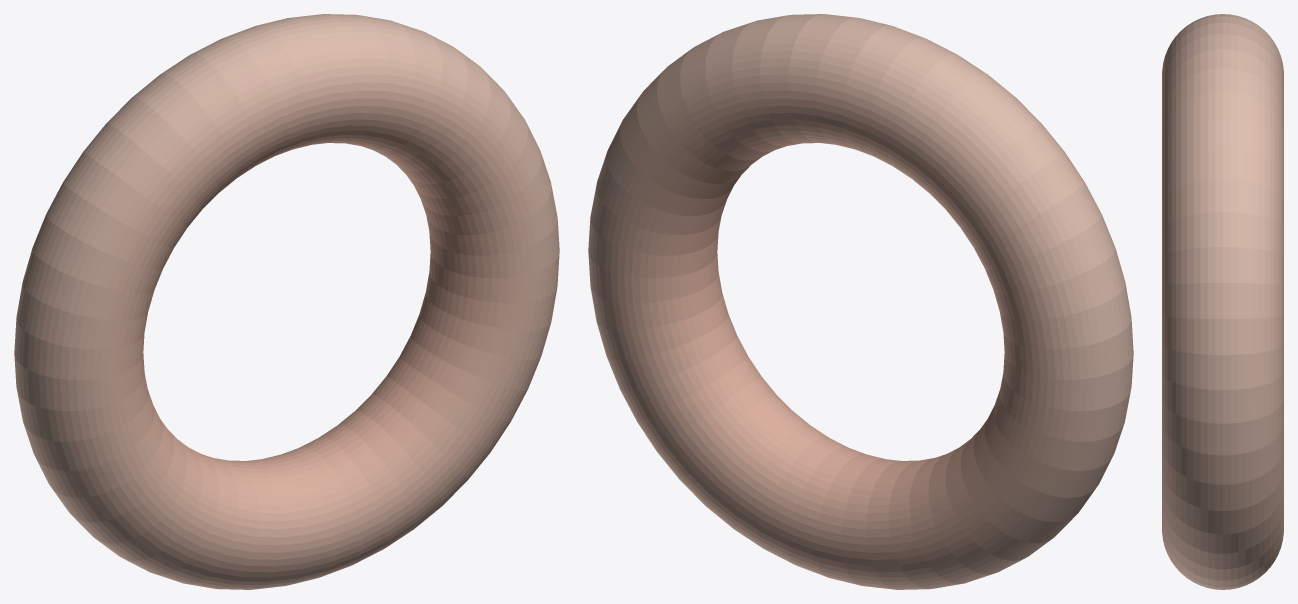
3 renders of one model, left to right at view 1: azimuth 30°, elevation 25°; view 2: azimuth 150°, elevation 25°; view 3: azimuth 270°, elevation 25°, orthographic. The views are drawn at different scales.
Parts seen in each view (by area): view 1: world; view 2: world; view 3: world.
Boxes of the visible parts, x1,y1,x2,y2 form: world: (14,14,559,589); world: (588,14,1133,589); world: (1162,14,1283,589).
Bounding box in the file's own units: 29.6 × 29.54 × 6.25.
